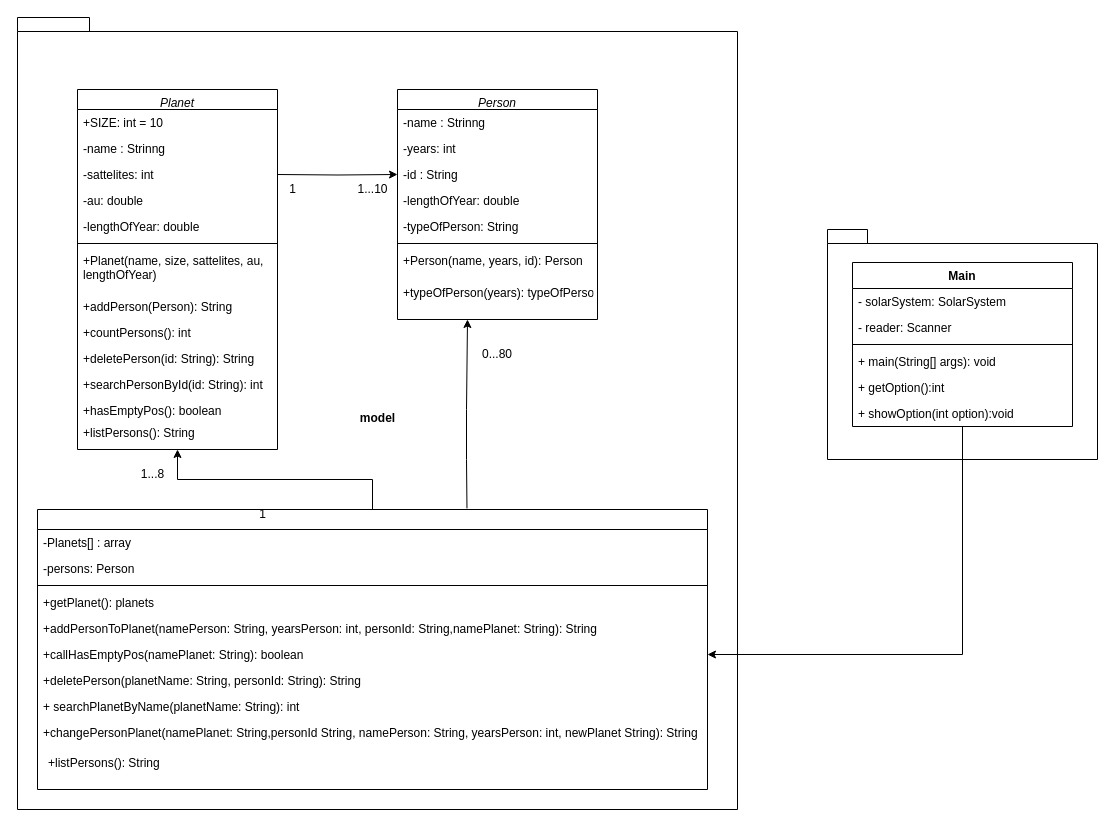
This 1115x827 diagram has some shape labels left out. Each missing label, with the box of its shape:
SolarSystem: (36, 508, 708, 790)
ui: (826, 228, 1098, 460)
